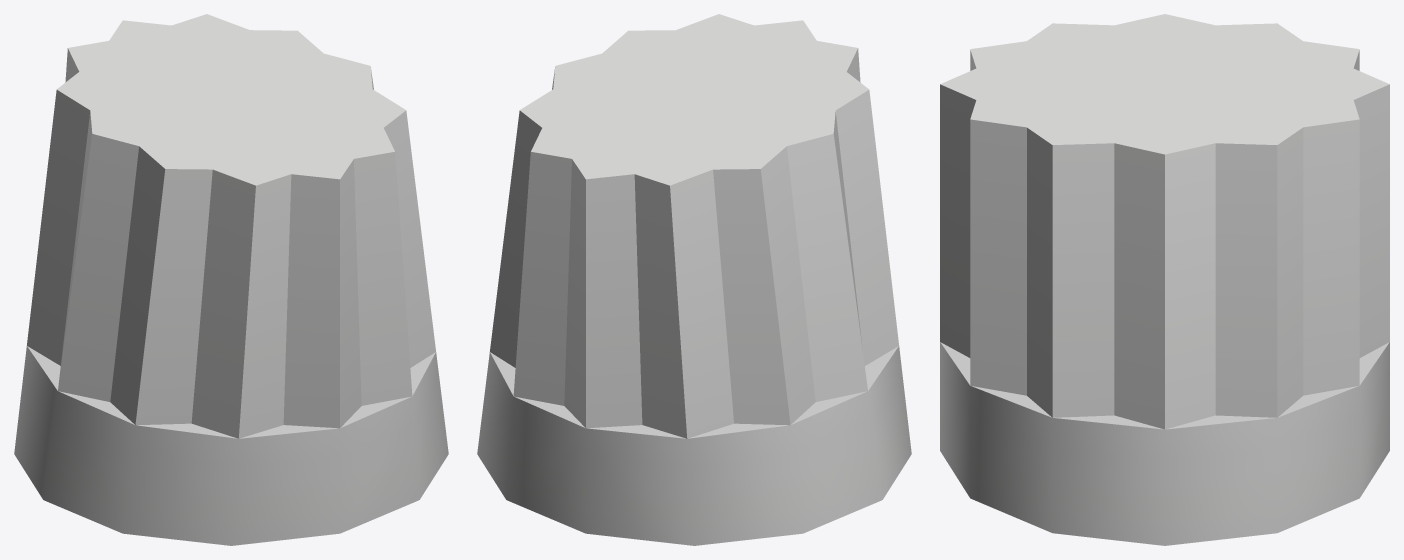
The model's file is Head_Prop_Cooking_Toque_04.fbx.
The picture shows the model from 3 angles, left to right: view 1: azimuth 30°, elevation 25°; view 2: azimuth 150°, elevation 25°; view 3: azimuth 270°, elevation 25°; orthographic projection. The views are drawn at different scales.
Parts seen in each view (by area): view 1: Head_Prop_Cooking_Toque_04; view 2: Head_Prop_Cooking_Toque_04; view 3: Head_Prop_Cooking_Toque_04.
Part boxes in pixels (bbox=[...]): Head_Prop_Cooking_Toque_04: bbox=[14, 14, 448, 545]; Head_Prop_Cooking_Toque_04: bbox=[477, 14, 911, 545]; Head_Prop_Cooking_Toque_04: bbox=[940, 14, 1389, 545].
Size of the model in its own units: 100 by 89.95 by 100.
